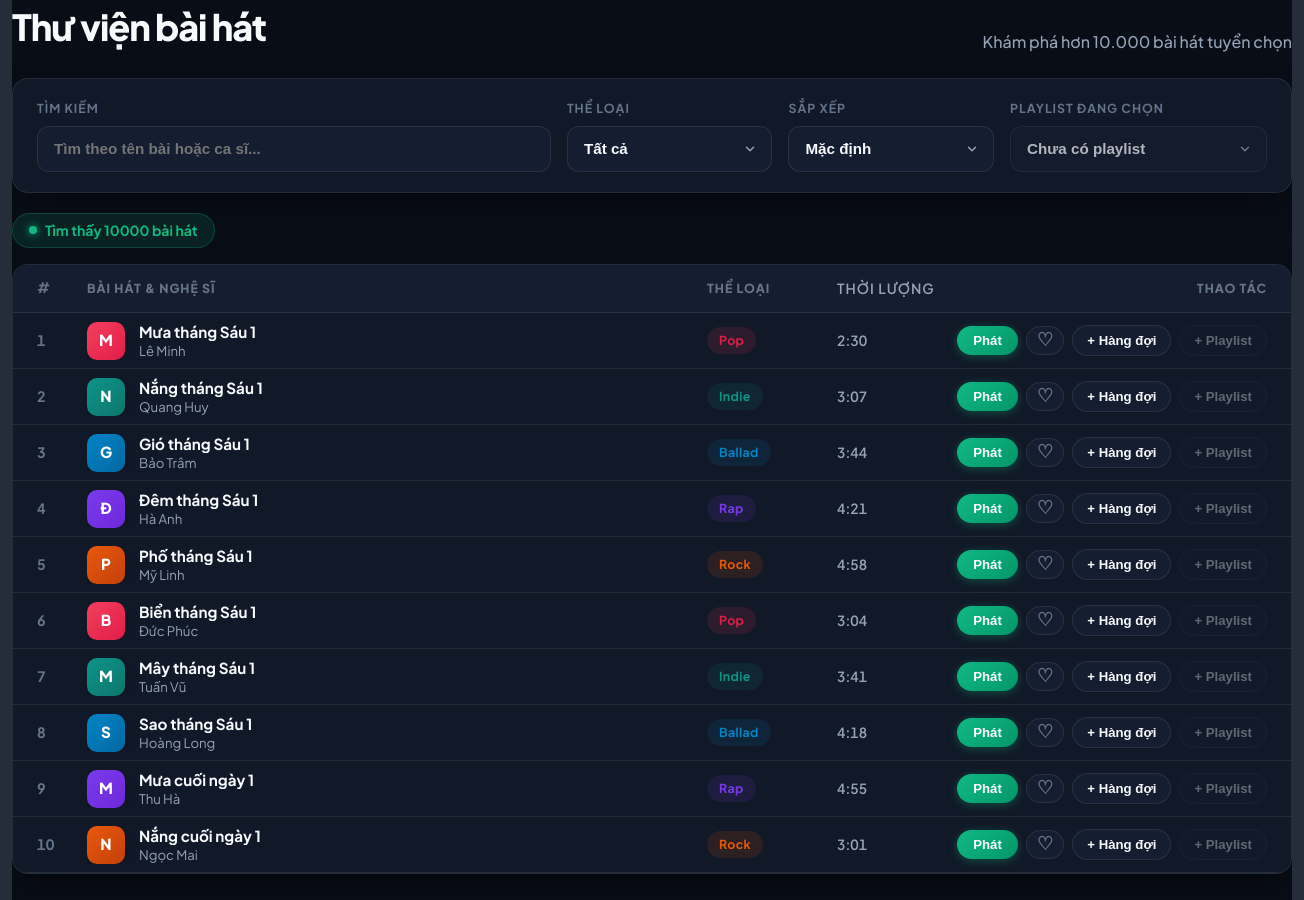
Test: LibraryPage › lọc theo thể loại kết hợp với tìm kiếm
In the field labelled "Tìm kiếm": (294, 149) [37, 126, 551, 172], type "mưa"
Wait 300 ms
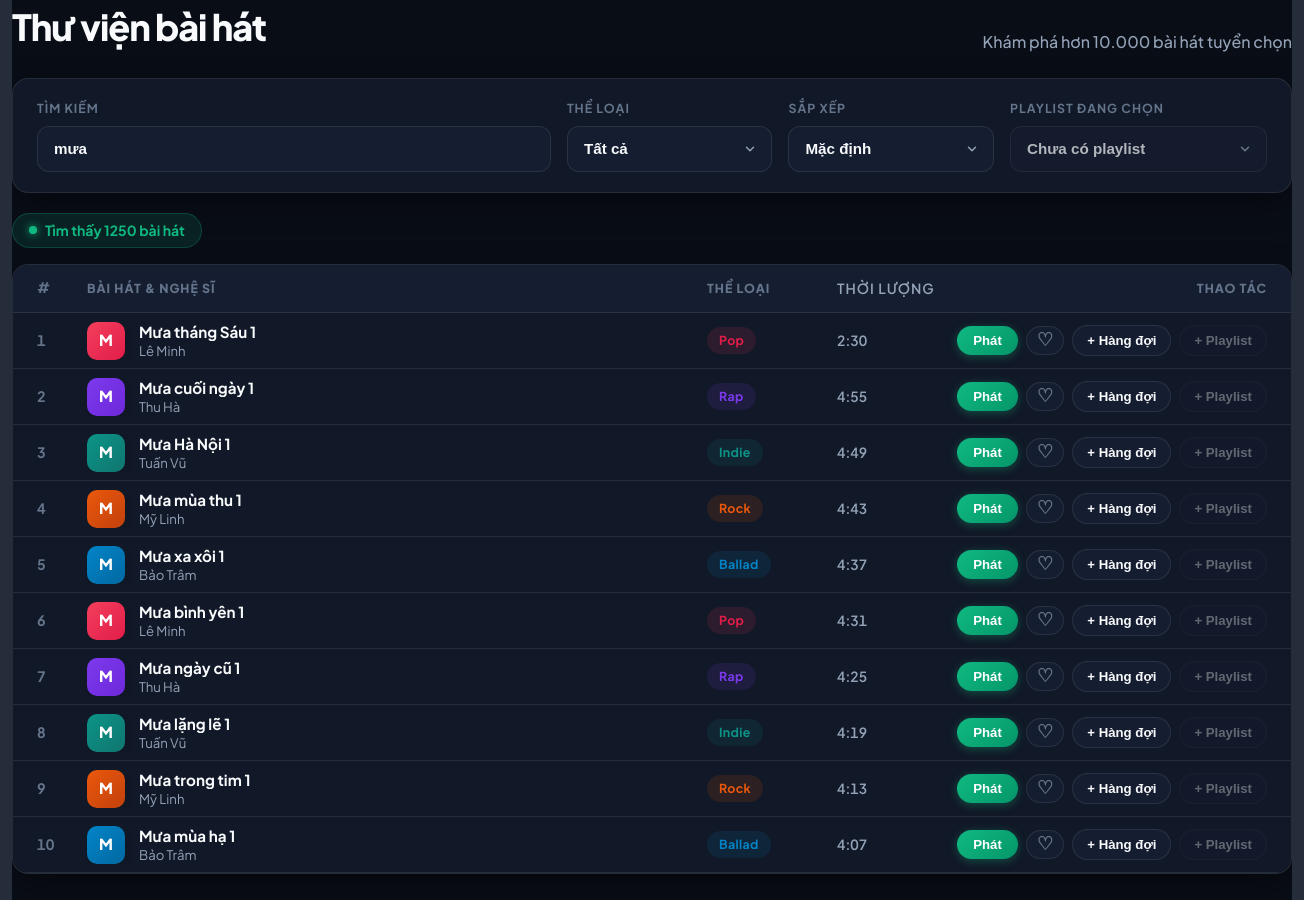
Now the text "Tìm thấy 1250 bài hát" is shown, box [12, 213, 202, 248]
Select "Rock" in the dropdown labelled "Thể loại": (670, 149) [567, 126, 772, 172]
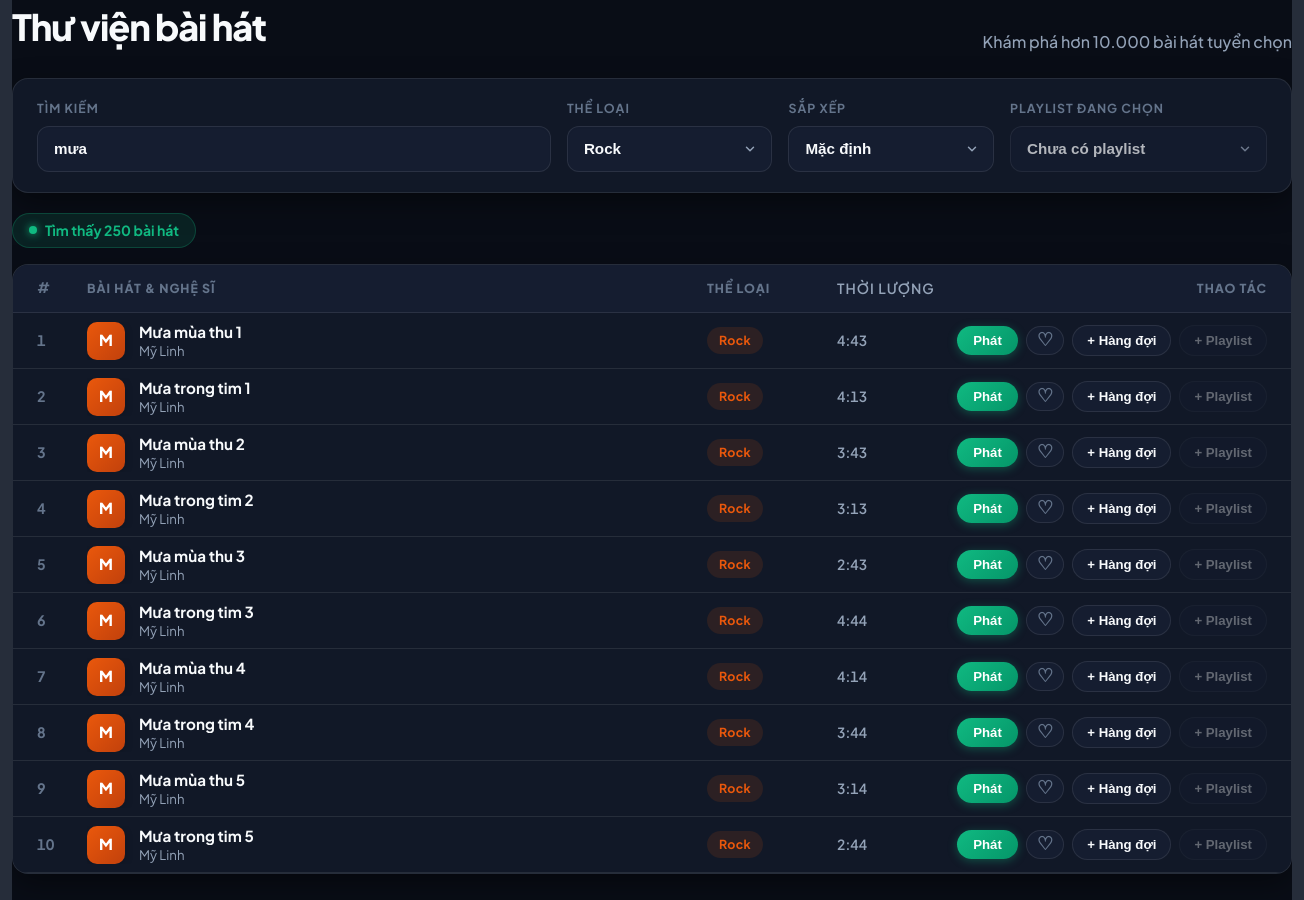
Now the text "Tìm thấy 250 bài hát" is shown, box [12, 213, 196, 248]
